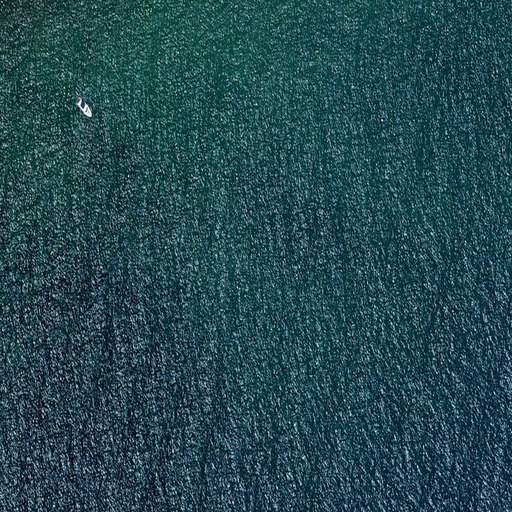ship: (74, 99, 94, 119)
